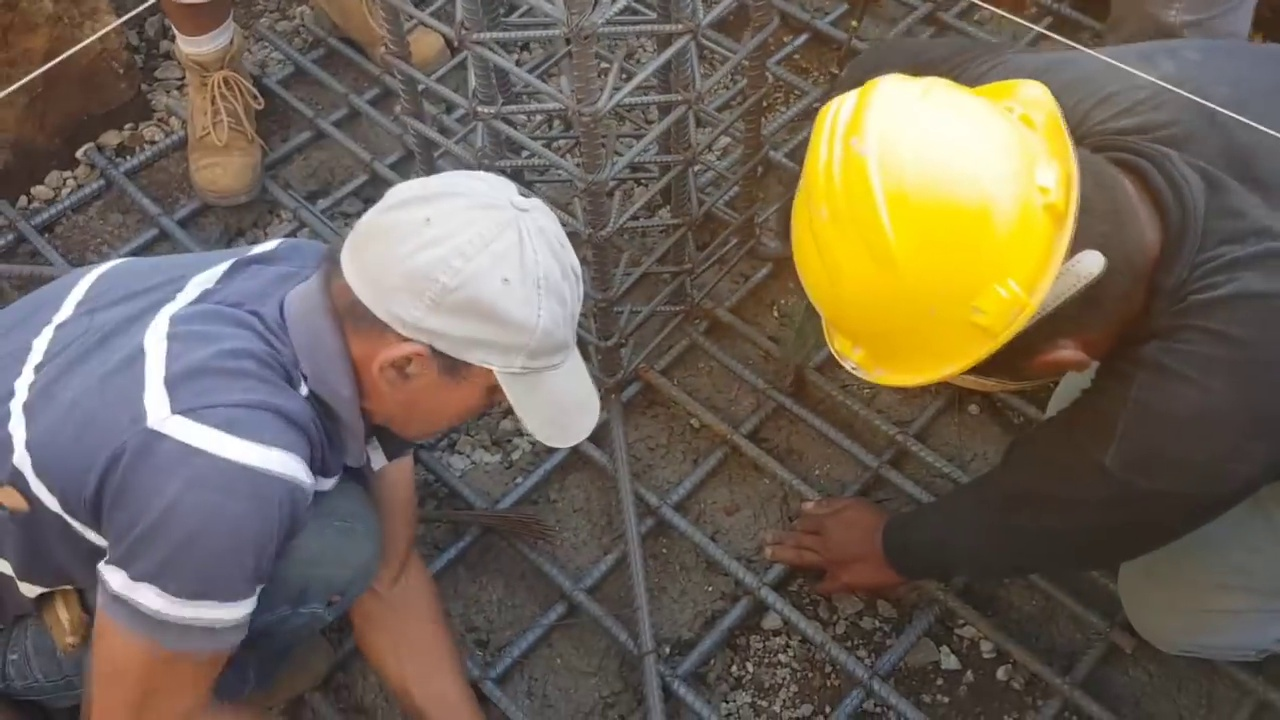helmet: (775, 71, 1098, 405)
helmet-off: (333, 157, 604, 464)
helmet-on: (774, 64, 1178, 411)
person: (696, 56, 1280, 685), (0, 154, 630, 704)
